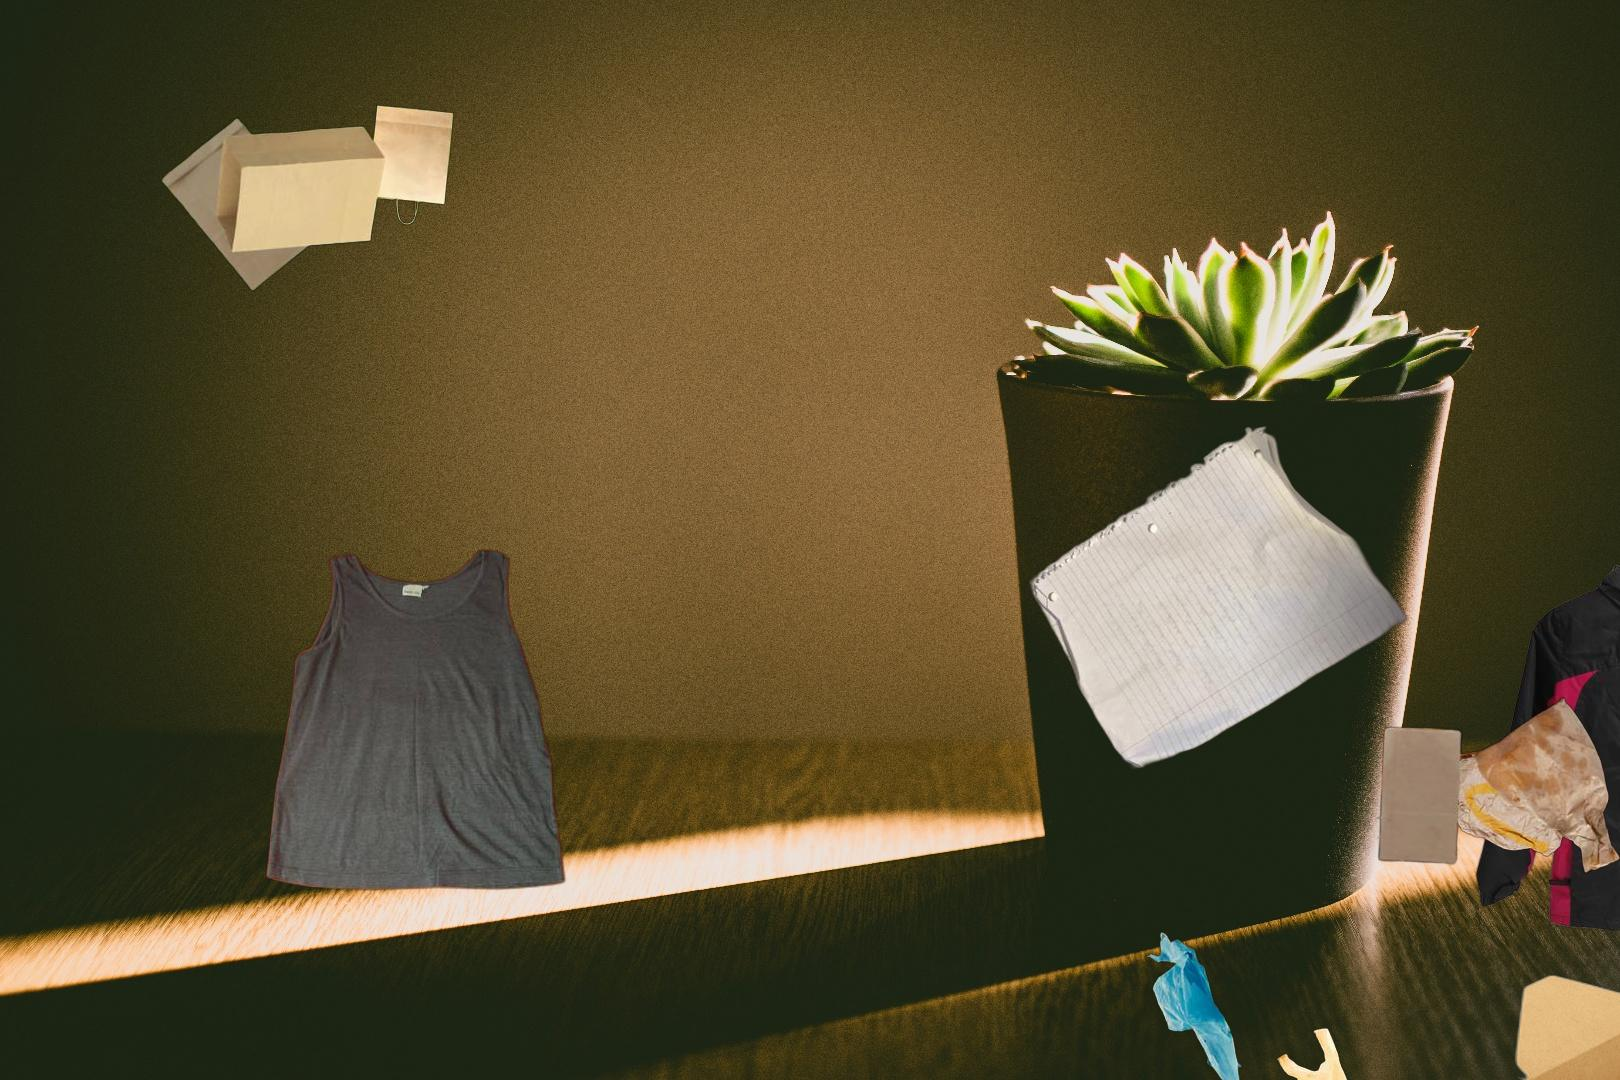clothes: (262, 546, 569, 893), (1473, 501, 1620, 937)
paper: (1025, 422, 1411, 773)
paper-bag: (159, 96, 457, 292), (1375, 695, 1620, 876)
penholder: (141, 974, 1620, 1080)
plastic-bag: (1141, 931, 1366, 1080)
trashbox-cardboard: (1343, 953, 1620, 1080)
